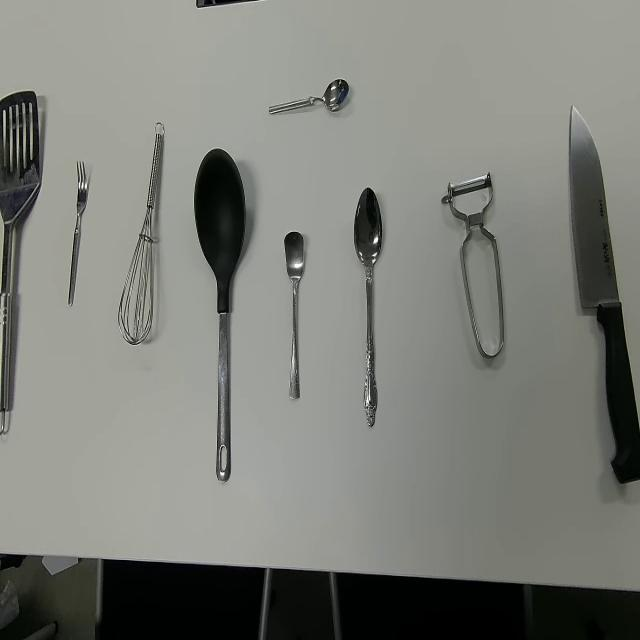Desert-Spoon: (353, 185, 384, 428)
Dinner-Fork: (66, 159, 88, 308)
Kitchen-Knife: (568, 103, 640, 487)
Peeler: (440, 170, 504, 359)
Serving-Spoon: (192, 145, 247, 484), (0, 88, 41, 437)
Tea-Spoon: (283, 229, 304, 400), (268, 76, 349, 117)
Whisk: (118, 120, 165, 346)
